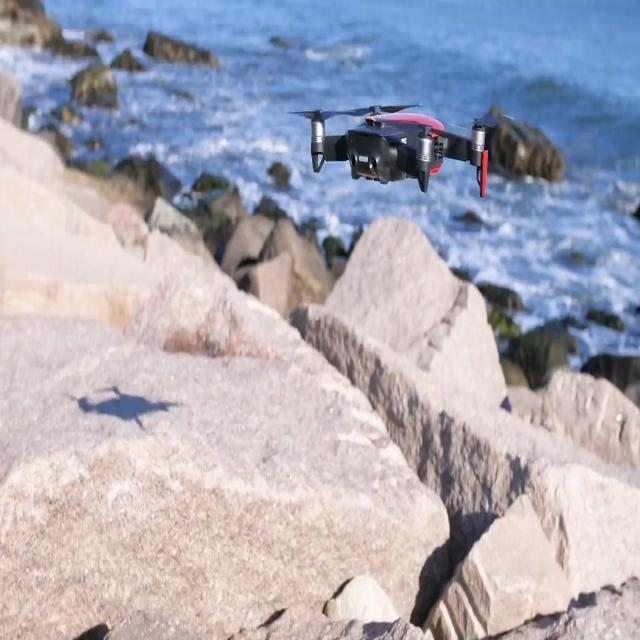UAV: (286, 103, 488, 199)
